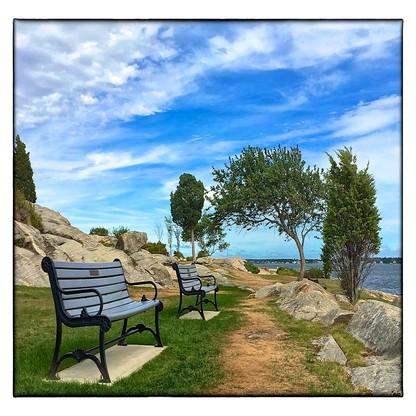obstacle: (33, 249, 161, 374), (177, 246, 225, 318)
